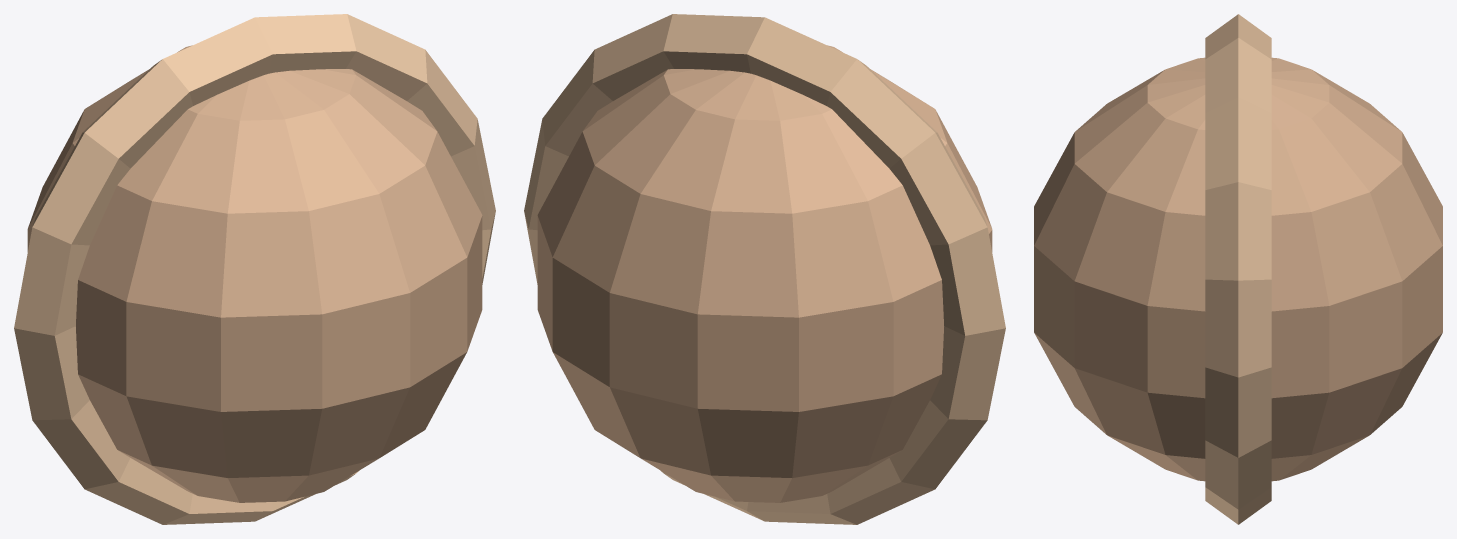
Rendered from codo_tuberia.glb.
3 renders of one model, left to right at view 1: azimuth 30°, elevation 25°; view 2: azimuth 150°, elevation 25°; view 3: azimuth 270°, elevation 25°, orthographic. The views are drawn at different scales.
Visible parts, largest first — view 1: codo_tuberia; view 2: codo_tuberia; view 3: codo_tuberia.
Part boxes in pixels (x1,y1,x2,y2): codo_tuberia: (14,14,495,524); codo_tuberia: (524,14,1005,524); codo_tuberia: (1034,14,1442,524).
Size of the model in its own units: 0.88 by 0.88 by 0.7034.
